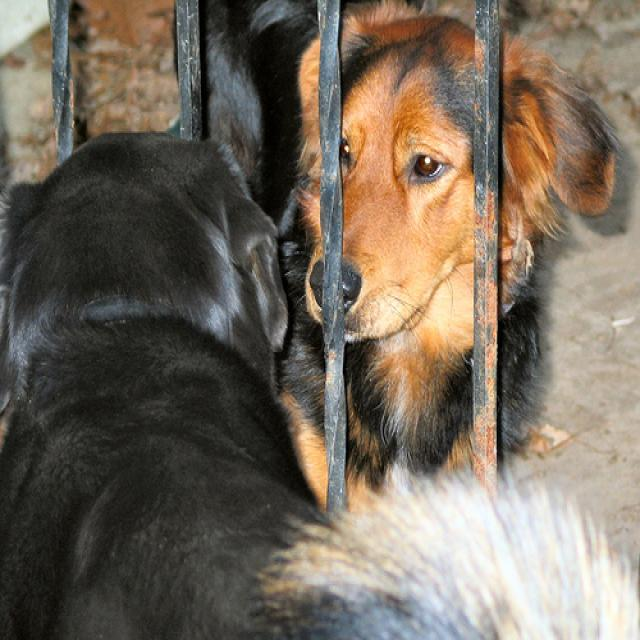dog: (1, 128, 640, 640), (169, 1, 627, 524)
